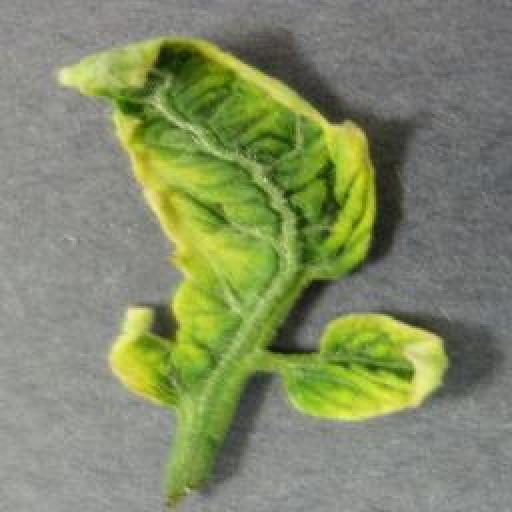disease_tomato: (58, 34, 376, 406), (286, 312, 448, 420)
